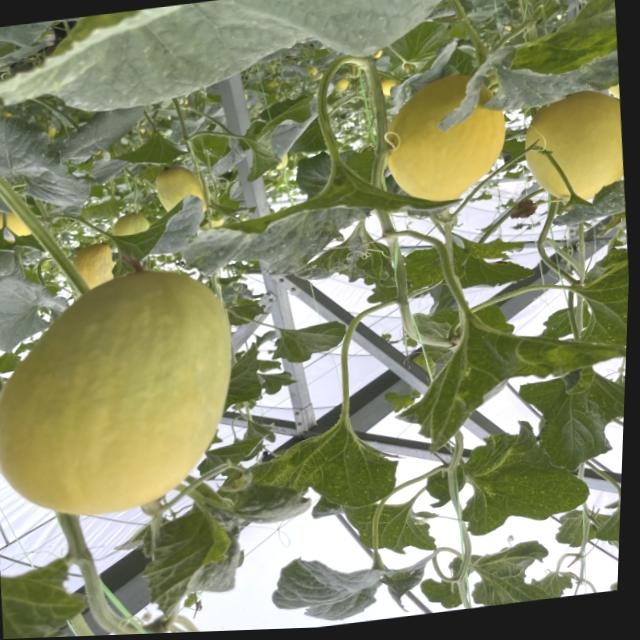SLCV: (288, 231, 395, 295)
alternaria leaf blight: (454, 252, 535, 294)
bacterial wilt: (509, 197, 540, 220)
downy mildew: (177, 159, 456, 280), (439, 0, 623, 124), (232, 401, 410, 526), (445, 407, 599, 538), (556, 222, 631, 354), (549, 163, 628, 232), (396, 242, 448, 295), (463, 230, 523, 262)
healthy: (264, 539, 436, 629), (509, 358, 626, 480), (453, 535, 563, 609), (93, 197, 205, 268), (0, 264, 75, 354), (261, 311, 353, 366), (584, 487, 621, 566)
